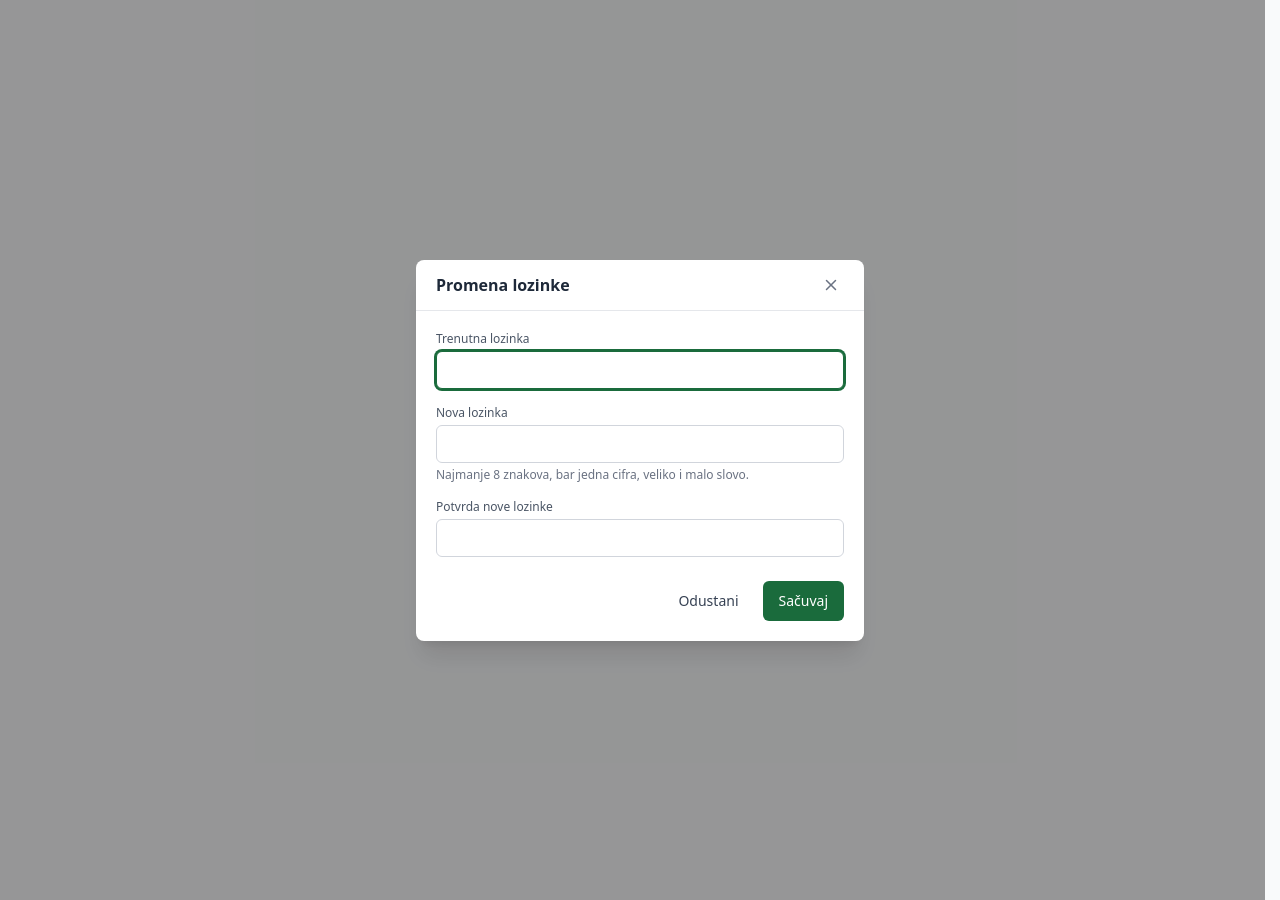
it: PromenaLozinke › ne šalje zahtev kad se potvrda ne poklapa ili je nova lozinka prekratka
Step 1. Type "Stara123" into the password field labelled "Trenutna lozinka" → (640, 370), box [436, 350, 844, 388]
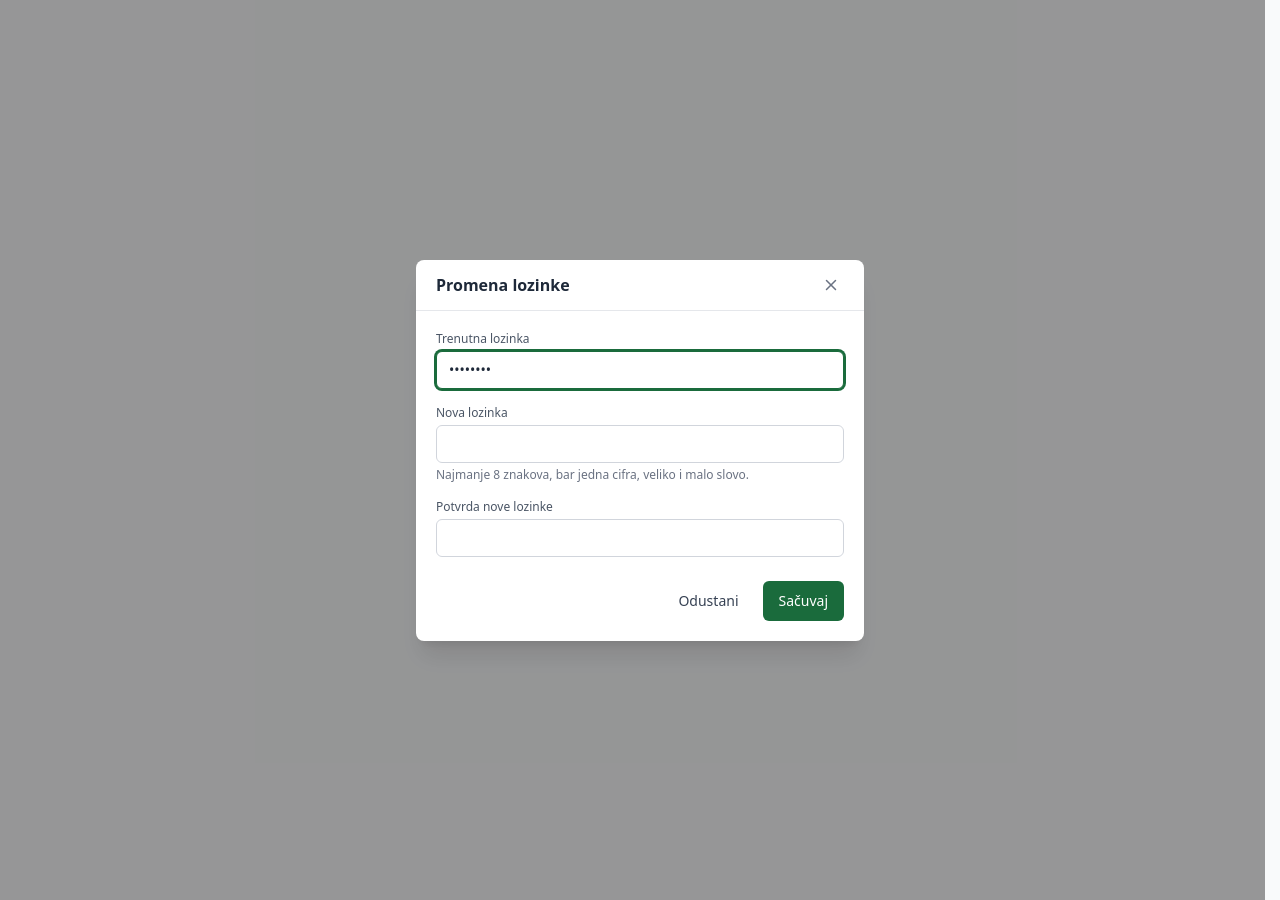
Step 2. Type "kratka" into the password field labelled "Nova lozinka" → (640, 444), box [436, 424, 844, 462]
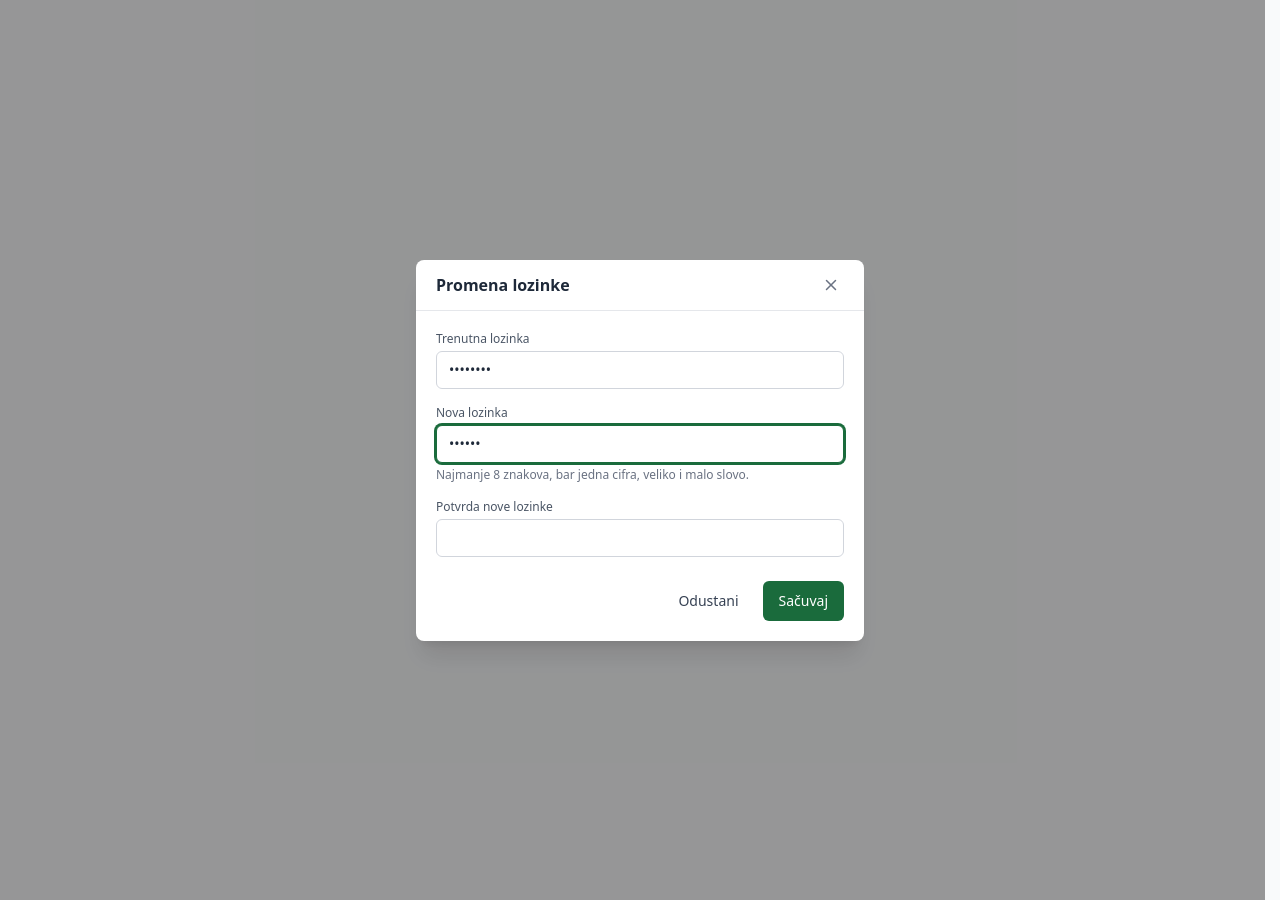
Step 3. Type "drugacija" into the password field labelled "Potvrda nove lozinke" → (640, 538), box [436, 518, 844, 556]
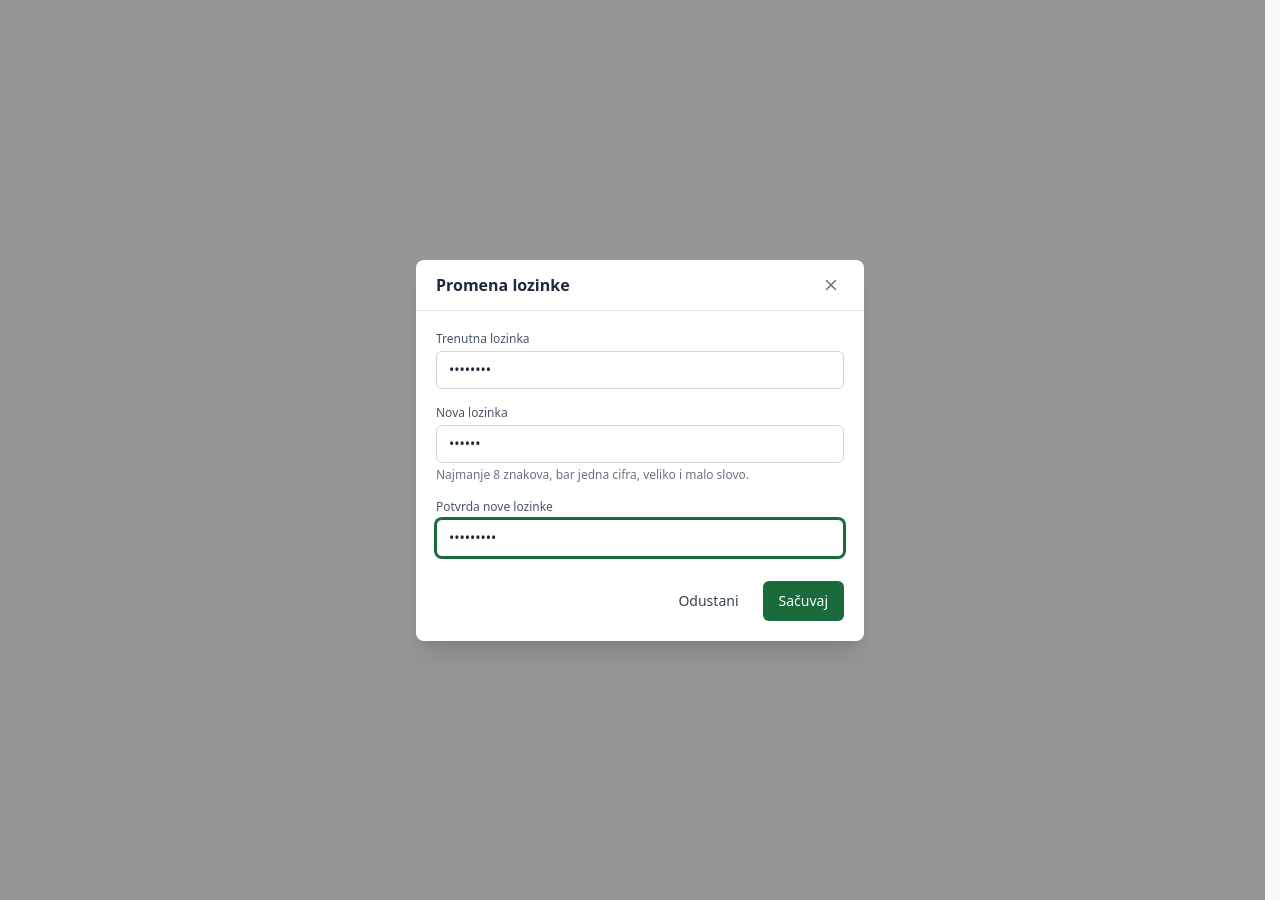
Step 4. Click the button "Sačuvaj" → click(803, 600), box [762, 580, 844, 620]
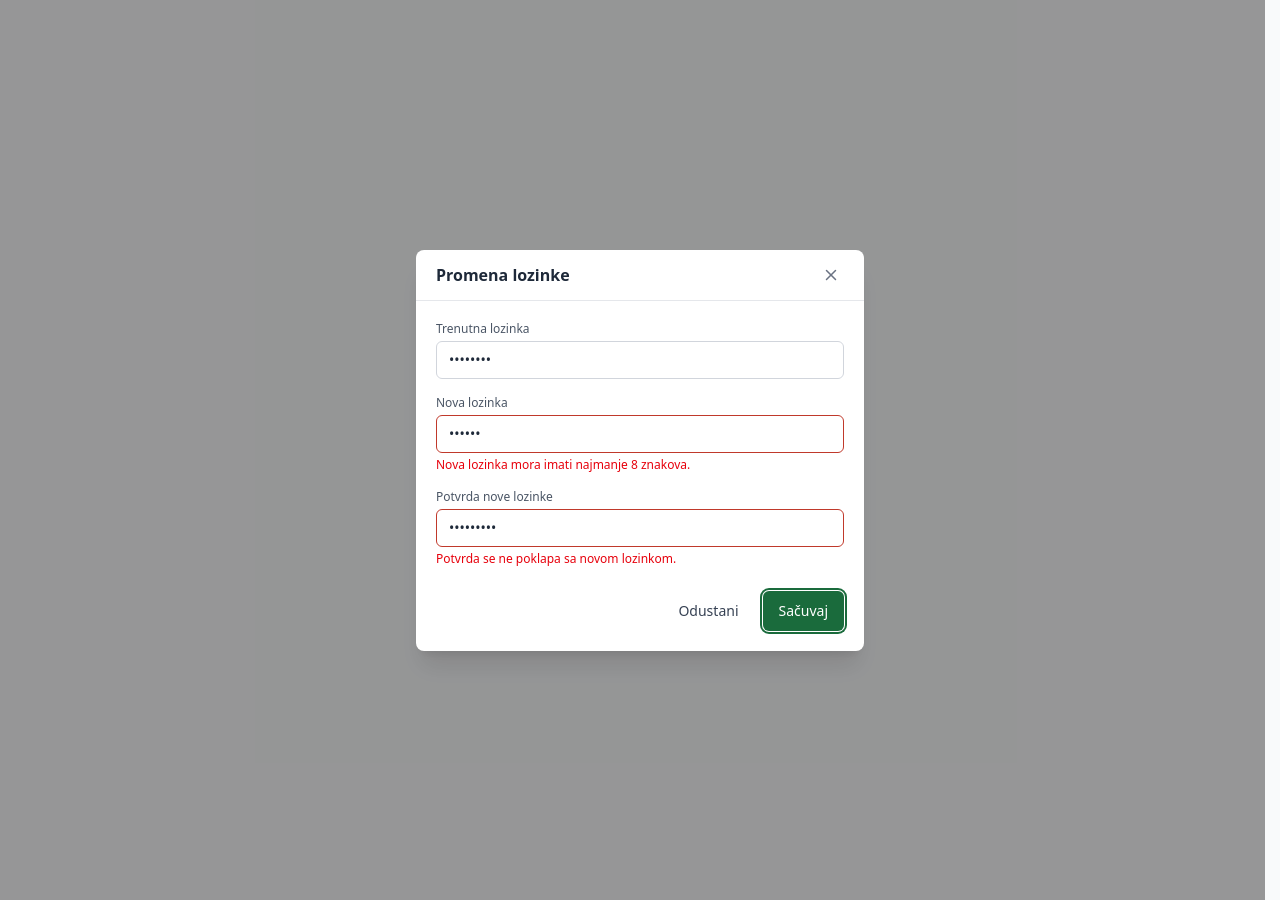
Expected: the text "Nova lozinka mora imati najmanje 8 znakova." is shown, [436, 456, 690, 472]
Expected: the text "Potvrda se ne poklapa sa novom lozinkom." is shown, [436, 550, 676, 566]
